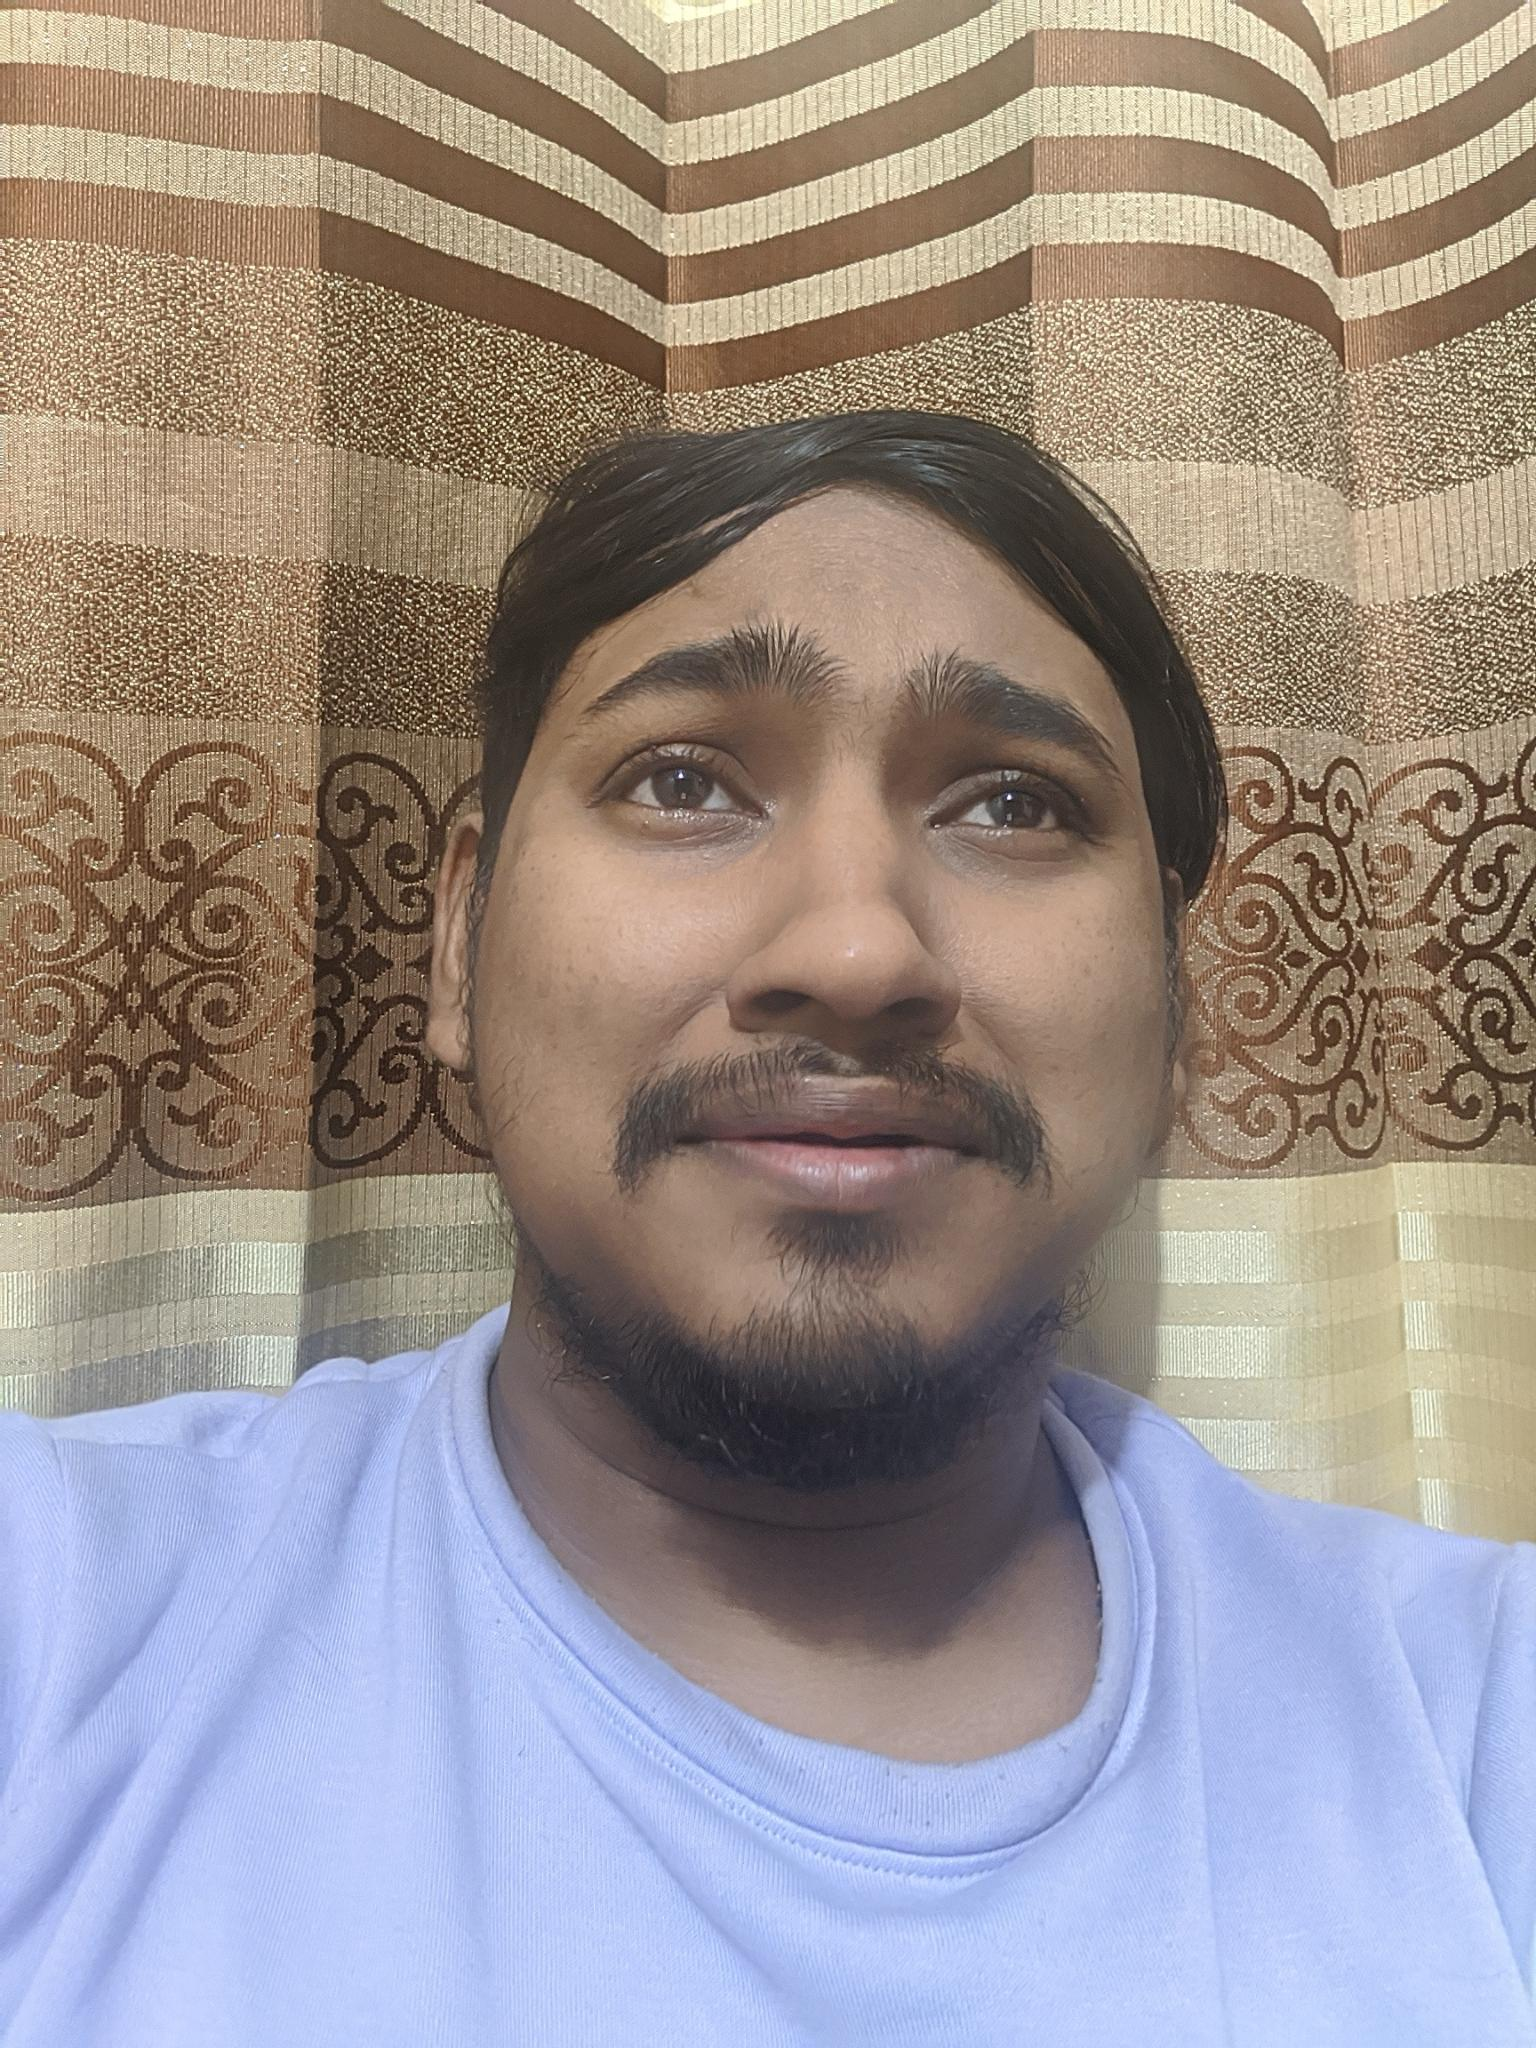Sad: (534, 561, 1186, 1390)
